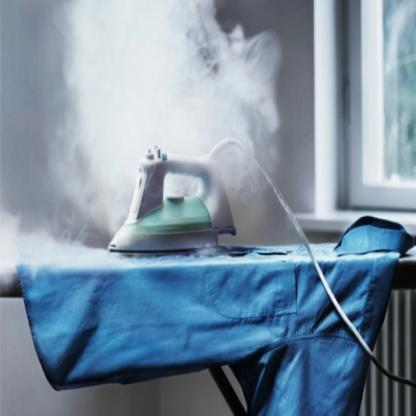smoke: (56, 3, 284, 242)
